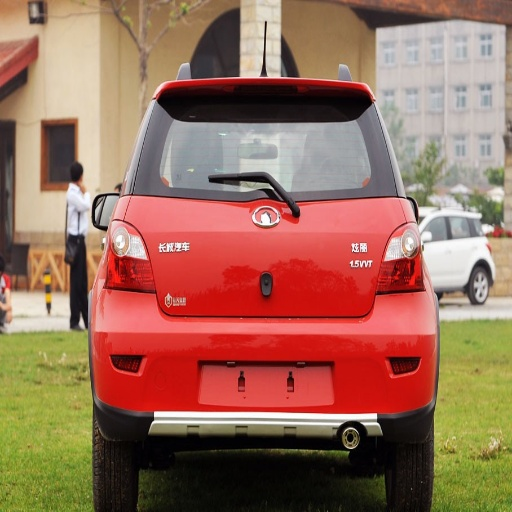back_bumper: (95, 284, 435, 433)
trunk: (122, 200, 414, 318)
